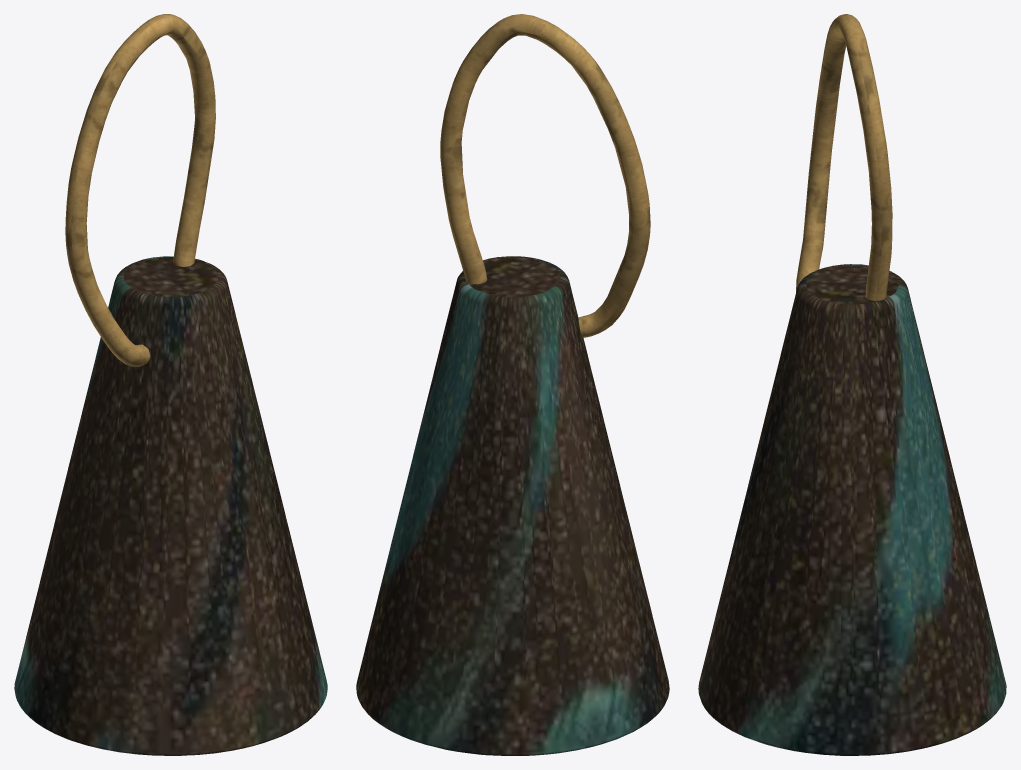
The model's file is Medenka_01_Smycka_cerna.glb.
3 renders of one model, left to right at view 1: azimuth 30°, elevation 25°; view 2: azimuth 150°, elevation 25°; view 3: azimuth 270°, elevation 25°, orthographic.
Parts seen in each view (by area): view 1: Telo, Smycka; view 2: Telo, Smycka; view 3: Telo, Smycka.
Part boxes in pixels (<box>): Telo: <box>14,256,327,755</box>; Smycka: <box>65,14,215,366</box>; Telo: <box>356,256,669,755</box>; Smycka: <box>440,14,650,337</box>; Telo: <box>698,264,1006,755</box>; Smycka: <box>796,14,892,300</box>.
Bounding box in the file's own units: 0.0398 × 0.095 × 0.0398.
2 materials, 2 textured.
